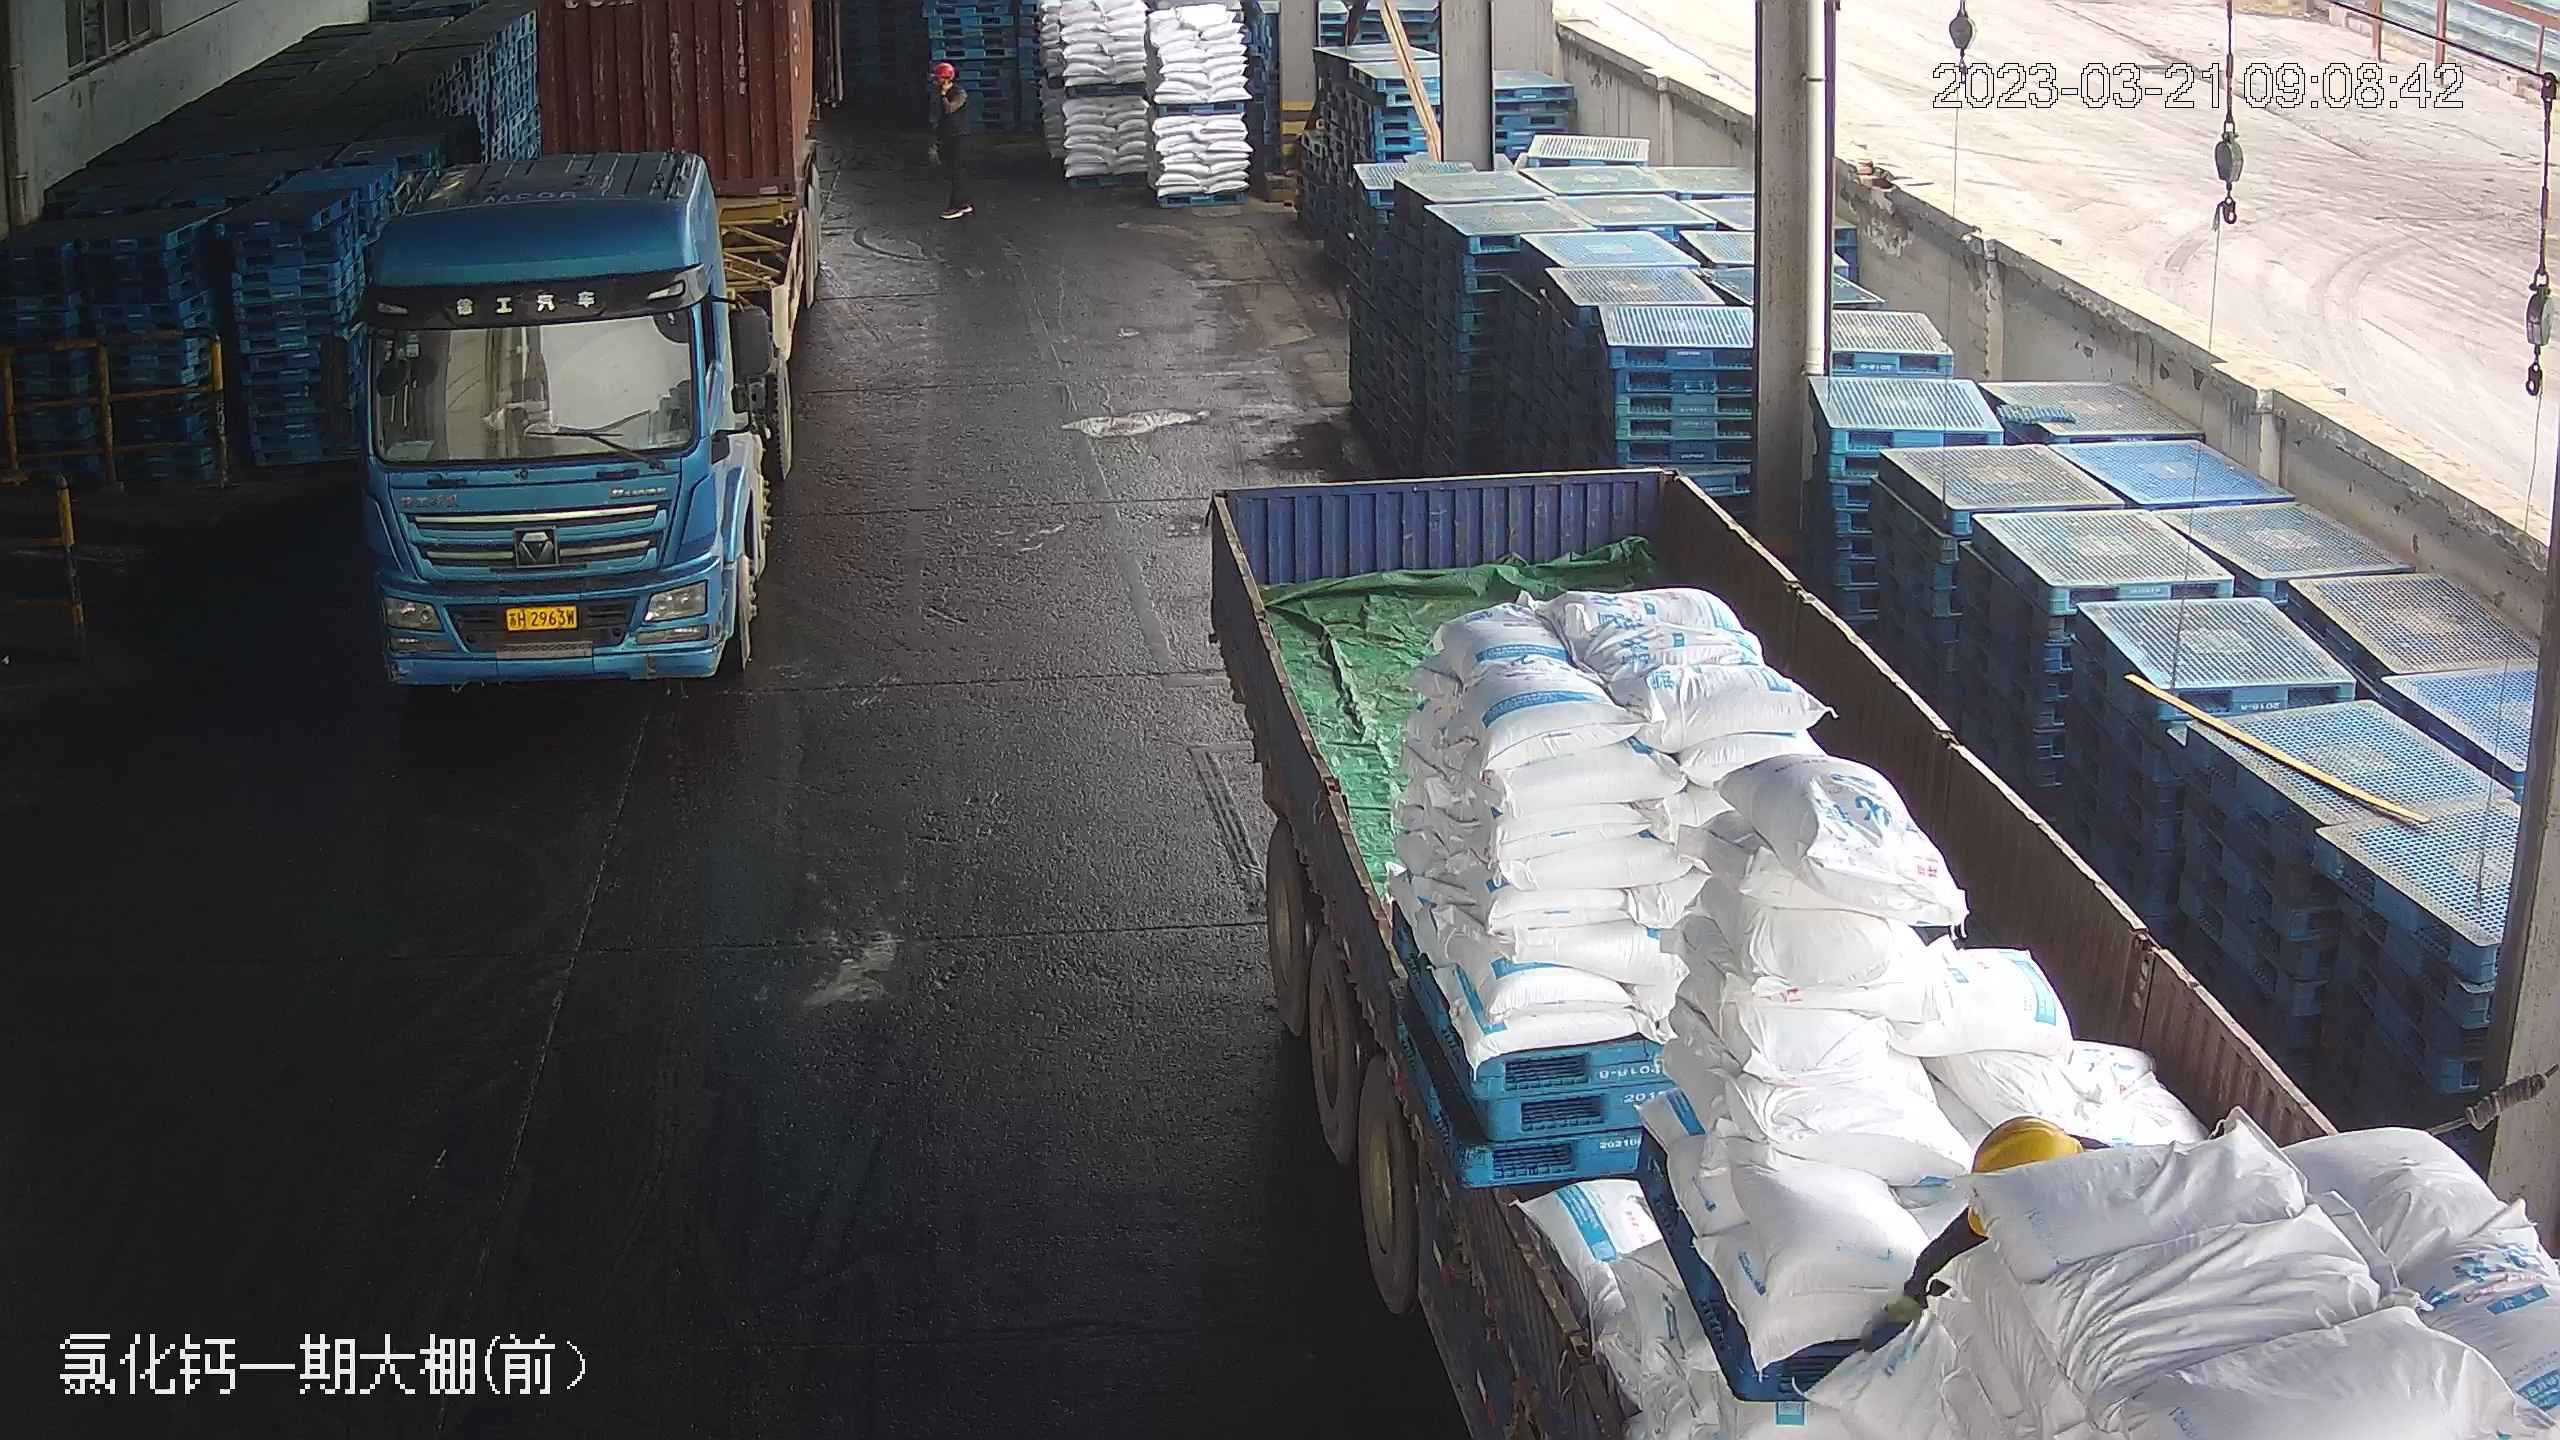head: (922, 57, 965, 106)
helmet: (1965, 1116, 2084, 1179), (929, 57, 955, 81)
people: (923, 52, 979, 216)
truck: (1180, 450, 2550, 1434), (330, 0, 828, 689)
